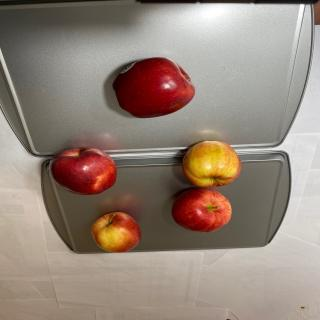Apple: (112, 57, 195, 118), (49, 147, 117, 195), (182, 140, 242, 187), (171, 188, 232, 233), (90, 212, 142, 252)
